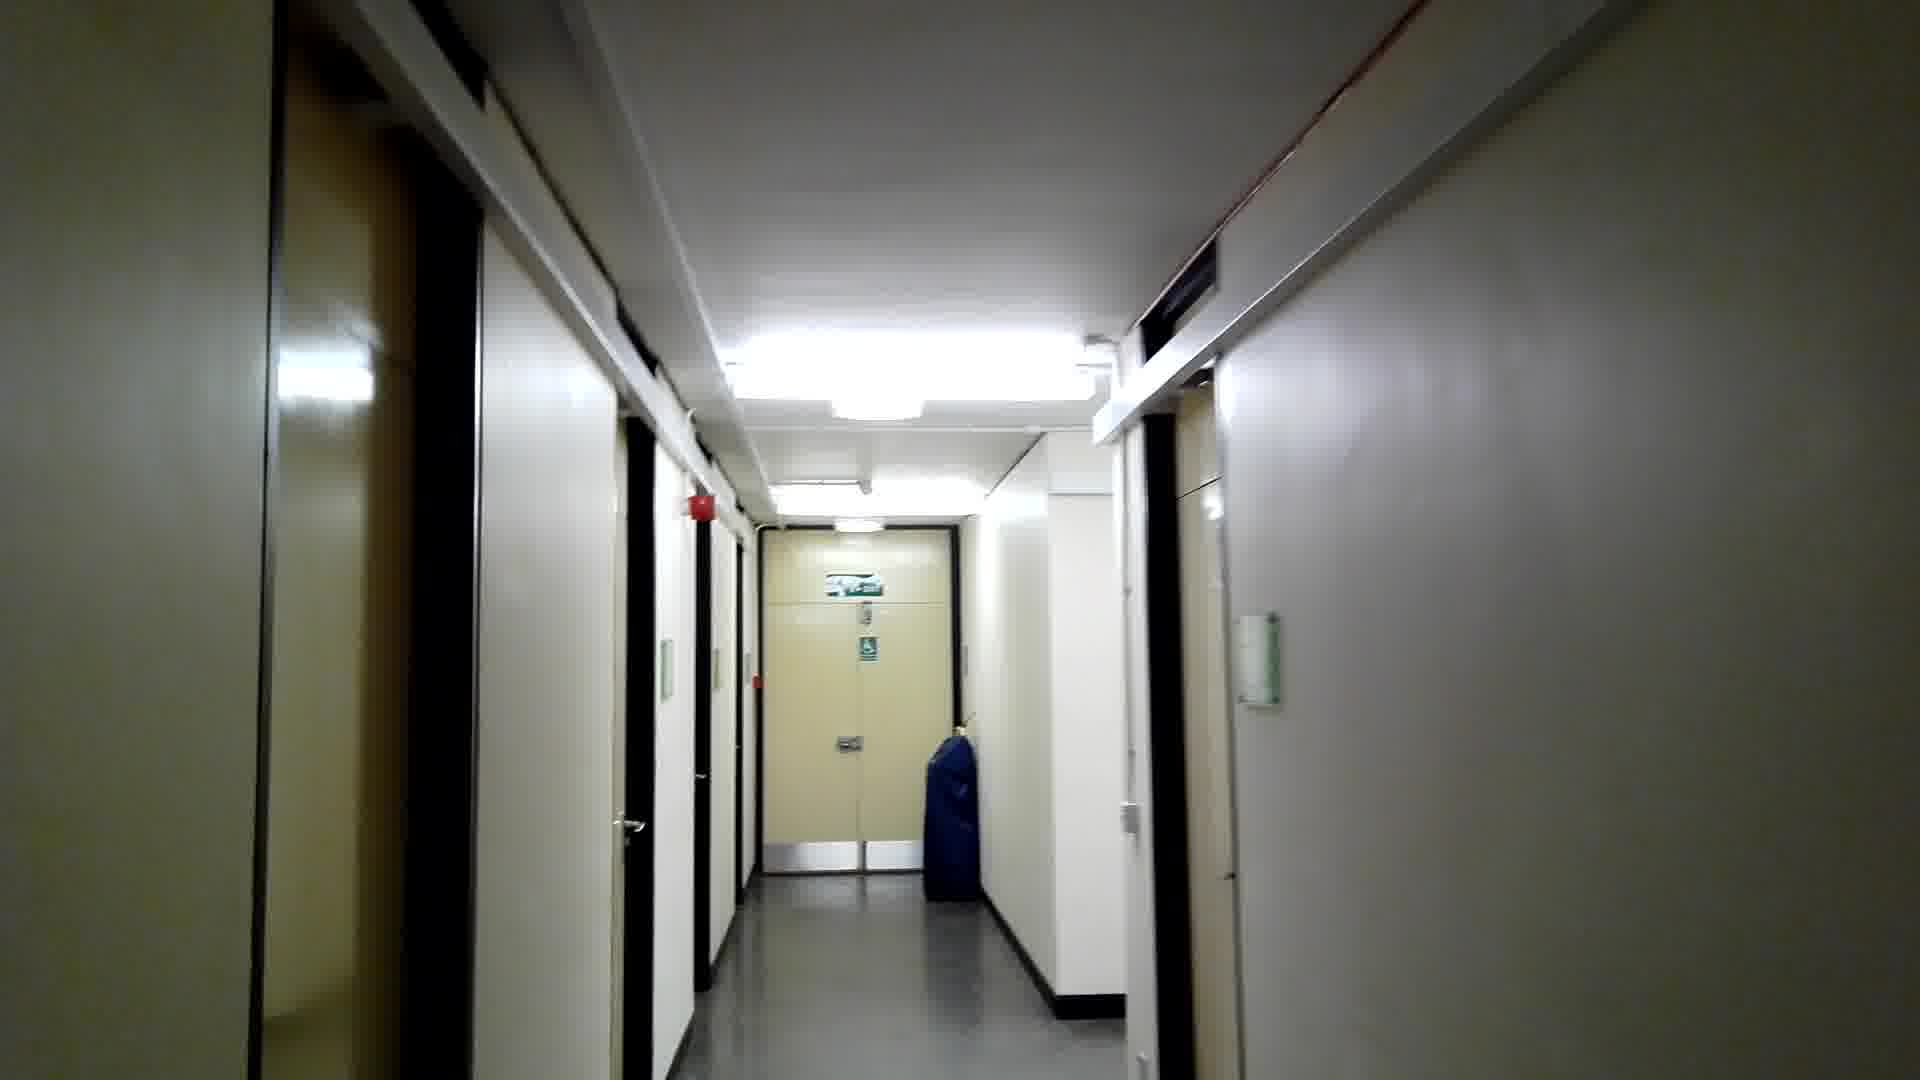Bin: (919, 723, 988, 914)
Door: (255, 1, 477, 1073), (1145, 216, 1238, 1080)
